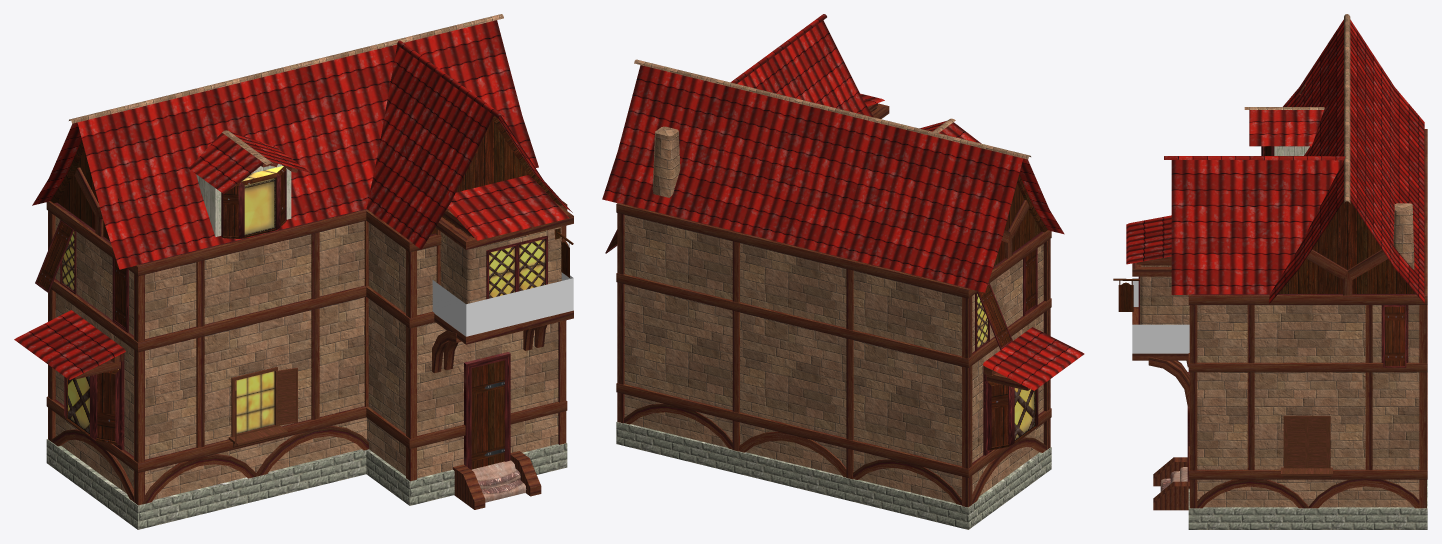
The model's file is House5.fbx.
3 views of the same model, side by side, from view 1: azimuth 30°, elevation 25°; view 2: azimuth 150°, elevation 25°; view 3: azimuth 270°, elevation 25° (orthographic). The views are drawn at different scales.
Parts seen in each view (by area): view 1: Combined_Root_Mesh_4, Combined_Root_Mesh_3, Combined_Root_Mesh_2, Combined_Root_Mesh_5, Combined_Root_Mesh_7, Combined_Root_Mesh_6, Combined_Root_Mesh_15, Combined_Root_Mesh_13, Combined_Root_Mesh, Combined_Root_Mesh_14, Combined_Root_Mesh_12, Combined_Root_Mesh_11 (+1 smaller); view 2: Combined_Root_Mesh_3, Combined_Root_Mesh_4, Combined_Root_Mesh_2, Combined_Root_Mesh_5, Combined_Root_Mesh_7, Combined_Root_Mesh_12, Combined_Root_Mesh_6; view 3: Combined_Root_Mesh_4, Combined_Root_Mesh_3, Combined_Root_Mesh_2, Combined_Root_Mesh_6, Combined_Root_Mesh_5, Combined_Root_Mesh, Combined_Root_Mesh_13, Combined_Root_Mesh_7, Combined_Root_Mesh_12.
Part boxes in pixels (bbox=[...]): Combined_Root_Mesh_4: bbox=[14, 20, 572, 379]; Combined_Root_Mesh_3: bbox=[55, 216, 561, 499]; Combined_Root_Mesh_2: bbox=[46, 167, 573, 509]; Combined_Root_Mesh_5: bbox=[46, 439, 567, 529]; Combined_Root_Mesh_7: bbox=[35, 220, 547, 450]; Combined_Root_Mesh_6: bbox=[50, 115, 573, 277]; Combined_Root_Mesh_15: bbox=[464, 352, 510, 469]; Combined_Root_Mesh_13: bbox=[432, 272, 573, 336]; Combined_Root_Mesh: bbox=[228, 366, 297, 447]; Combined_Root_Mesh_14: bbox=[221, 166, 286, 238]; Combined_Root_Mesh_12: bbox=[69, 14, 503, 164]; Combined_Root_Mesh_11: bbox=[472, 460, 526, 502]; Combined_Root_Mesh_3: bbox=[624, 126, 1043, 503]; Combined_Root_Mesh_4: bbox=[602, 14, 1084, 390]; Combined_Root_Mesh_2: bbox=[616, 103, 1051, 507]; Combined_Root_Mesh_5: bbox=[616, 422, 1051, 529]; Combined_Root_Mesh_7: bbox=[605, 229, 1038, 455]; Combined_Root_Mesh_12: bbox=[634, 59, 1030, 159]; Combined_Root_Mesh_6: bbox=[993, 174, 1047, 266]; Combined_Root_Mesh_4: bbox=[1126, 19, 1424, 303]; Combined_Root_Mesh_3: bbox=[1140, 203, 1419, 507]; Combined_Root_Mesh_2: bbox=[1132, 84, 1427, 510]; Combined_Root_Mesh_6: bbox=[1113, 201, 1415, 311]; Combined_Root_Mesh_5: bbox=[1188, 479, 1427, 529]; Combined_Root_Mesh: bbox=[1281, 415, 1332, 477]; Combined_Root_Mesh_13: bbox=[1132, 278, 1189, 353]; Combined_Root_Mesh_7: bbox=[1138, 276, 1408, 367]; Combined_Root_Mesh_12: bbox=[1244, 14, 1350, 203].
Size of the model in its own units: 1478 by 1168 by 980.
